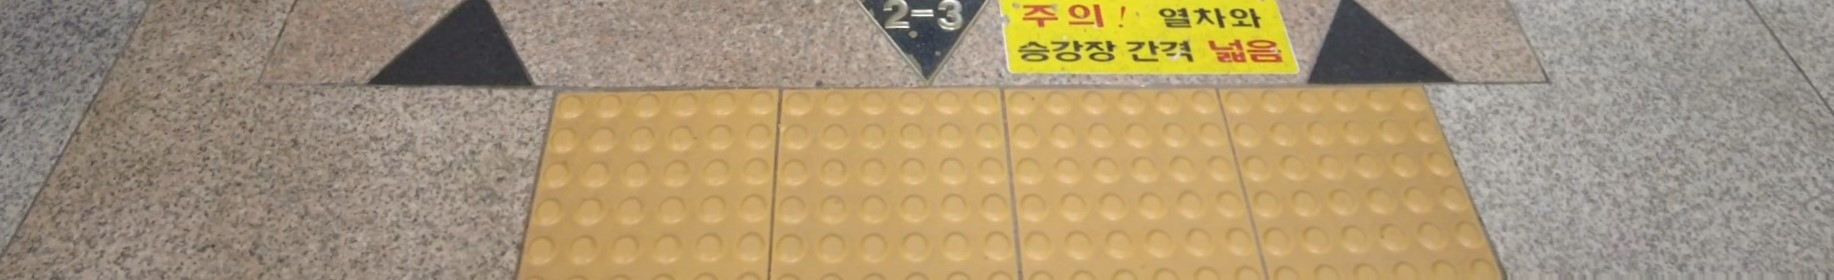warningBlock: (1234, 95, 1469, 280), (1028, 108, 1280, 280), (784, 88, 1002, 280), (528, 98, 765, 259)
